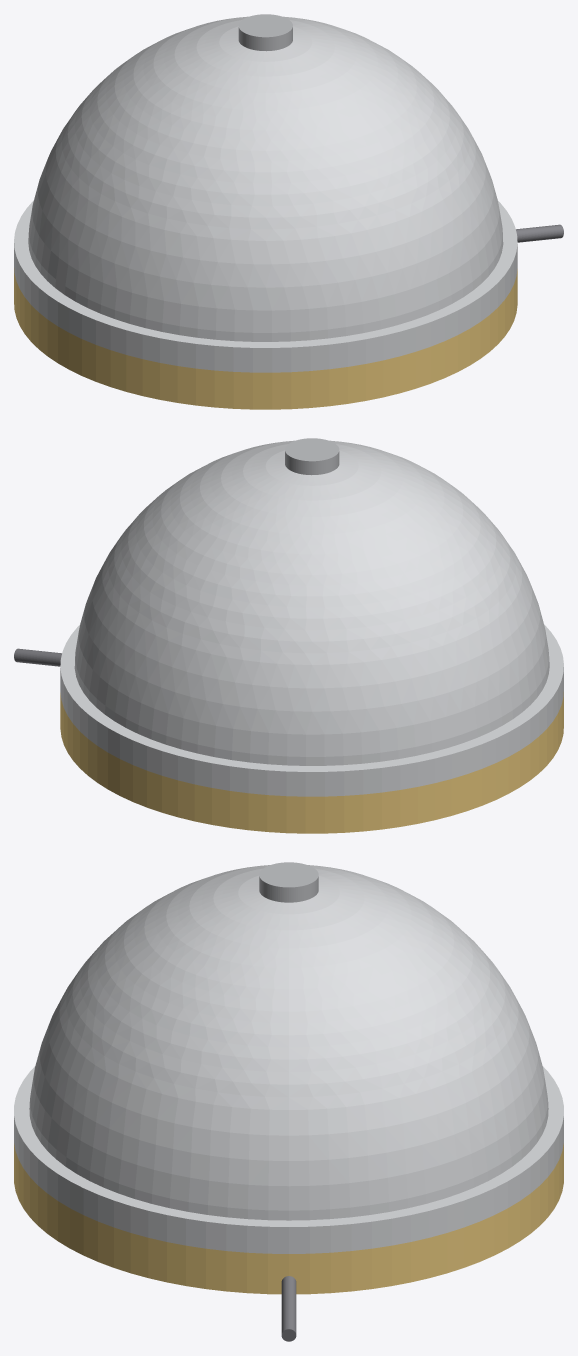
The model's file is sci02_seismometer_deployed.glb.
3 views of the same model, one above another, from view 1: azimuth 30°, elevation 25°; view 2: azimuth 150°, elevation 25°; view 3: azimuth 270°, elevation 25° (orthographic). The views are drawn at different scales.
Visible parts, largest first — view 1: dome, dome_skirt, grapple_knob, tether; view 2: dome, dome_skirt, grapple_knob, tether; view 3: dome, dome_skirt, grapple_knob, tether.
Boxes of the visible parts, x1,y1,x2,y2 form: dome: (14,16,517,372); dome_skirt: (14,268,517,409); grapple_knob: (238,14,292,51); tether: (516,224,563,242); dome: (60,440,563,796); dome_skirt: (60,692,563,833); grapple_knob: (285,438,339,475); tether: (14,648,61,666); dome: (14,865,563,1253); dome_skirt: (14,1143,563,1294); grapple_knob: (259,862,318,902); tether: (281,1276,296,1341).
Bounding box in the file's own units: 0.8713 × 0.4796 × 0.7395.
